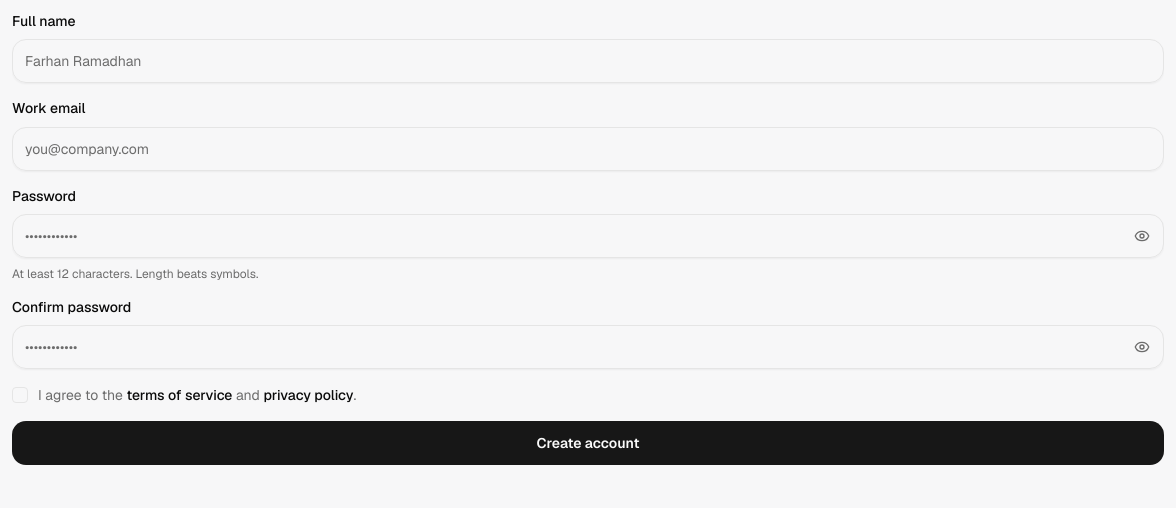
Test case: RegisterForm › surfaces an unaccepted-terms error
What coordinates should you click on to do the following:
click the button "Create account"
I would click on:
 (588, 443)
Its box is [12, 421, 1164, 465].
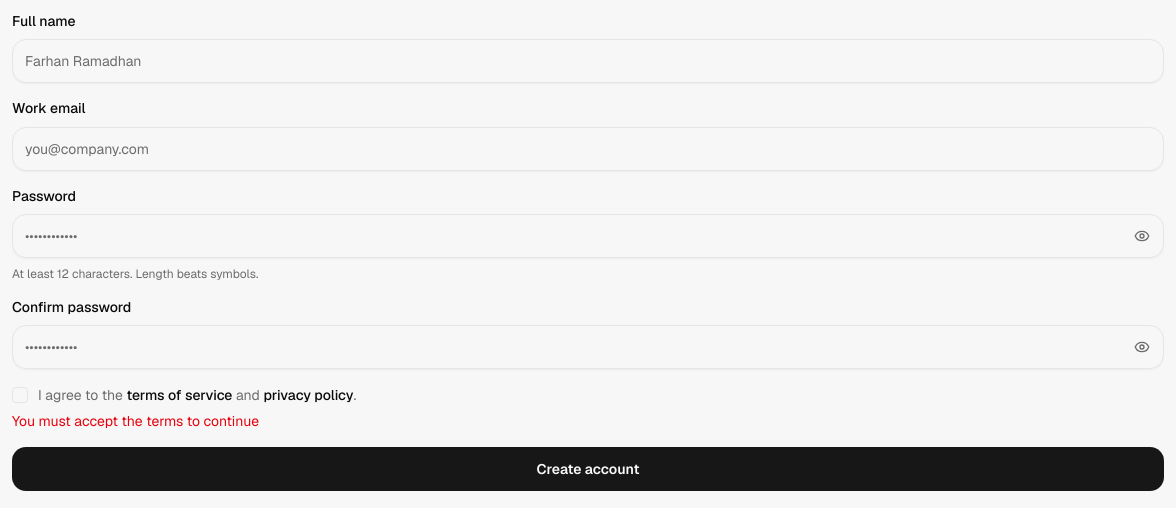
Result: the text "You must accept the terms to continue" is shown at [12, 412, 259, 430]
